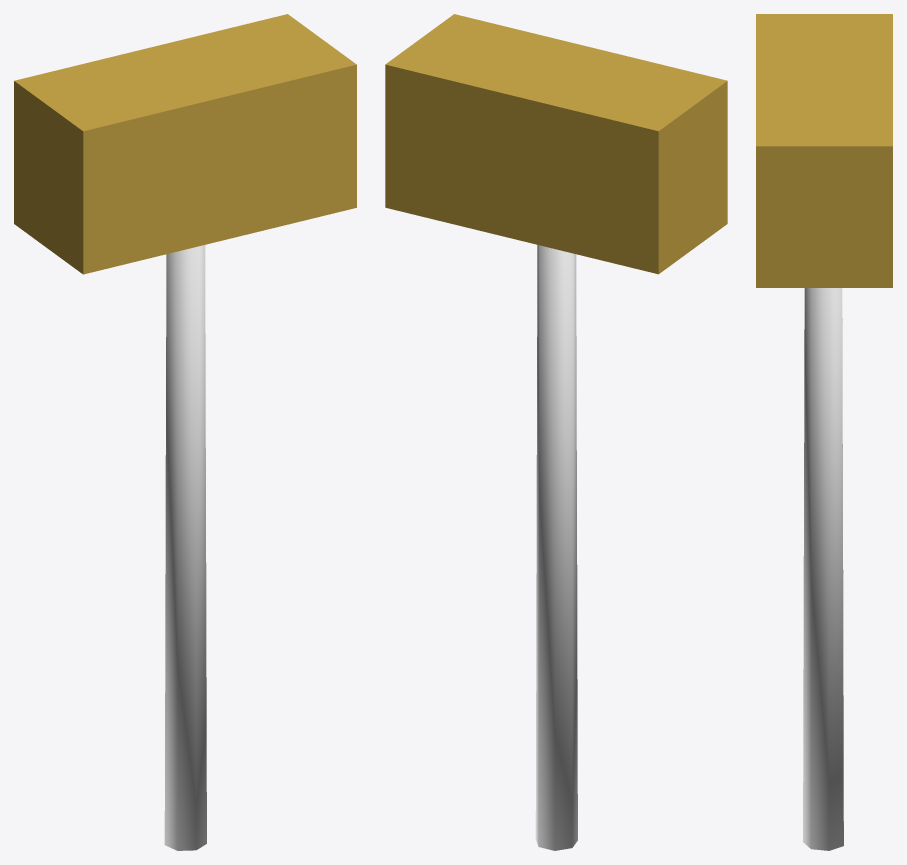
The model's file is gold_hammer.glb.
3 renders of one model, left to right at view 1: azimuth 30°, elevation 25°; view 2: azimuth 150°, elevation 25°; view 3: azimuth 270°, elevation 25°, orthographic.
Parts seen in each view (by area): view 1: gold_hammer_v0; view 2: gold_hammer_v0; view 3: gold_hammer_v0.
Boxes of the visible parts, left/top/right/bottom form: gold_hammer_v0: left=14, top=14, right=356, bottom=850; gold_hammer_v0: left=385, top=14, right=727, bottom=850; gold_hammer_v0: left=756, top=14, right=892, bottom=850.
Bounding box in the file's own units: 0.32 × 0.86 × 0.14.
